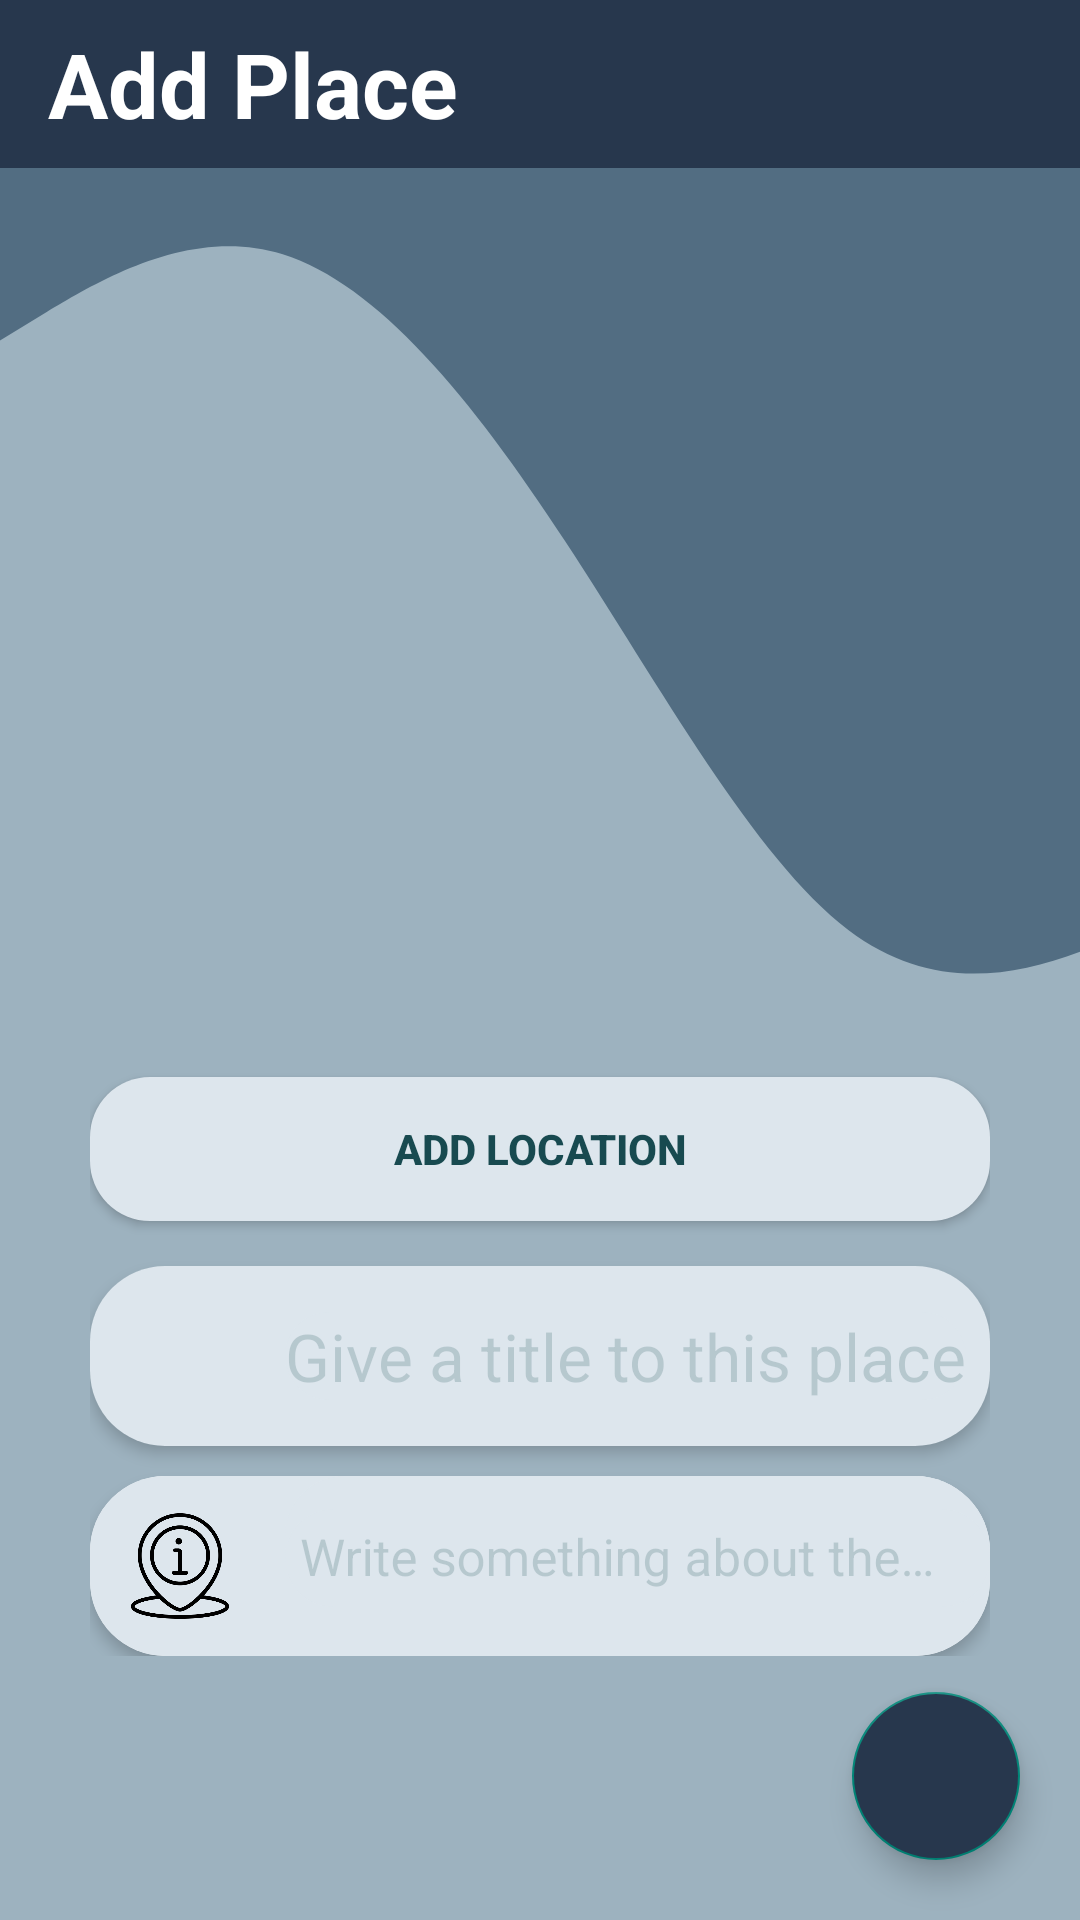

Where to tap for icons on this 1080px×1920px app screen, as (x,y):
information: (180,1566)
